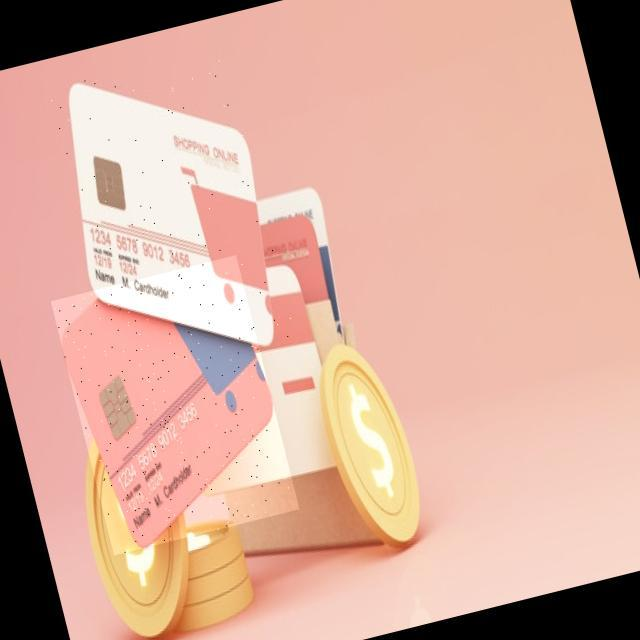payment_card: (66, 81, 274, 345)
